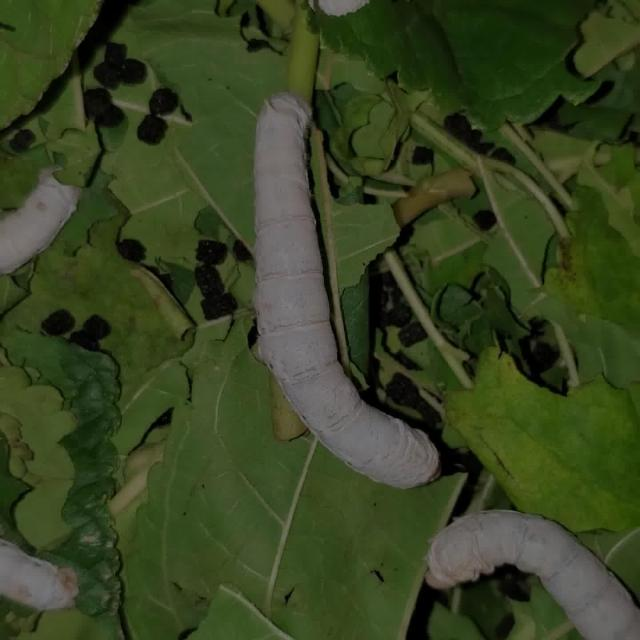Healthy: (212, 68, 450, 494)
